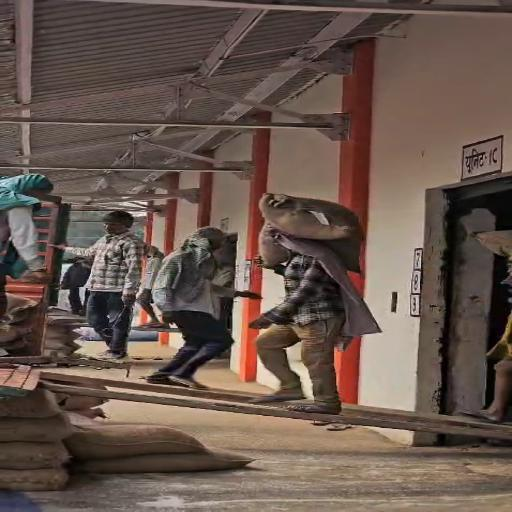bag: (259, 191, 359, 270)
